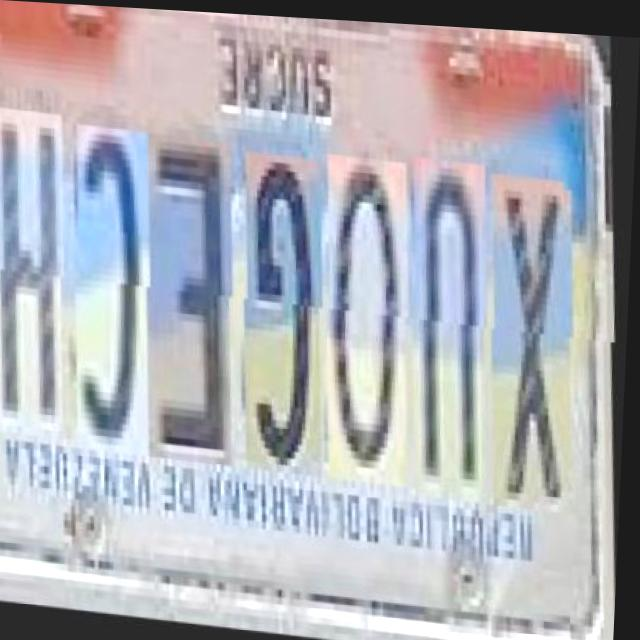c: (70, 130, 167, 460)
e: (140, 136, 249, 468)
g: (238, 154, 339, 477)
h: (0, 116, 81, 446)
o: (320, 154, 426, 485)
u: (406, 154, 505, 499)
x: (484, 169, 590, 507)
